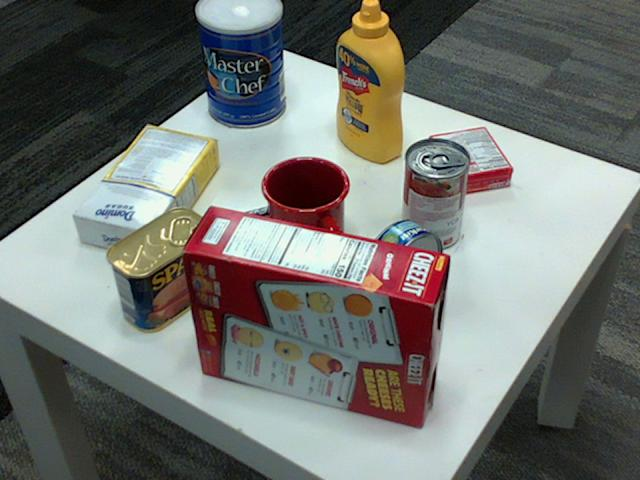cracker_box: (180, 205, 446, 424)
gelatin_box: (429, 127, 514, 193)
large_marker: (196, 198, 303, 243)
master_chef_can: (194, 0, 284, 127)
mug: (261, 153, 350, 261)
mustard_bottle: (336, 0, 403, 162)
potted_meat_can: (106, 206, 213, 332)
sugar_box: (73, 122, 219, 255)
tomato_soup_can: (400, 138, 468, 249)
tuna_fish_can: (360, 218, 442, 306)
